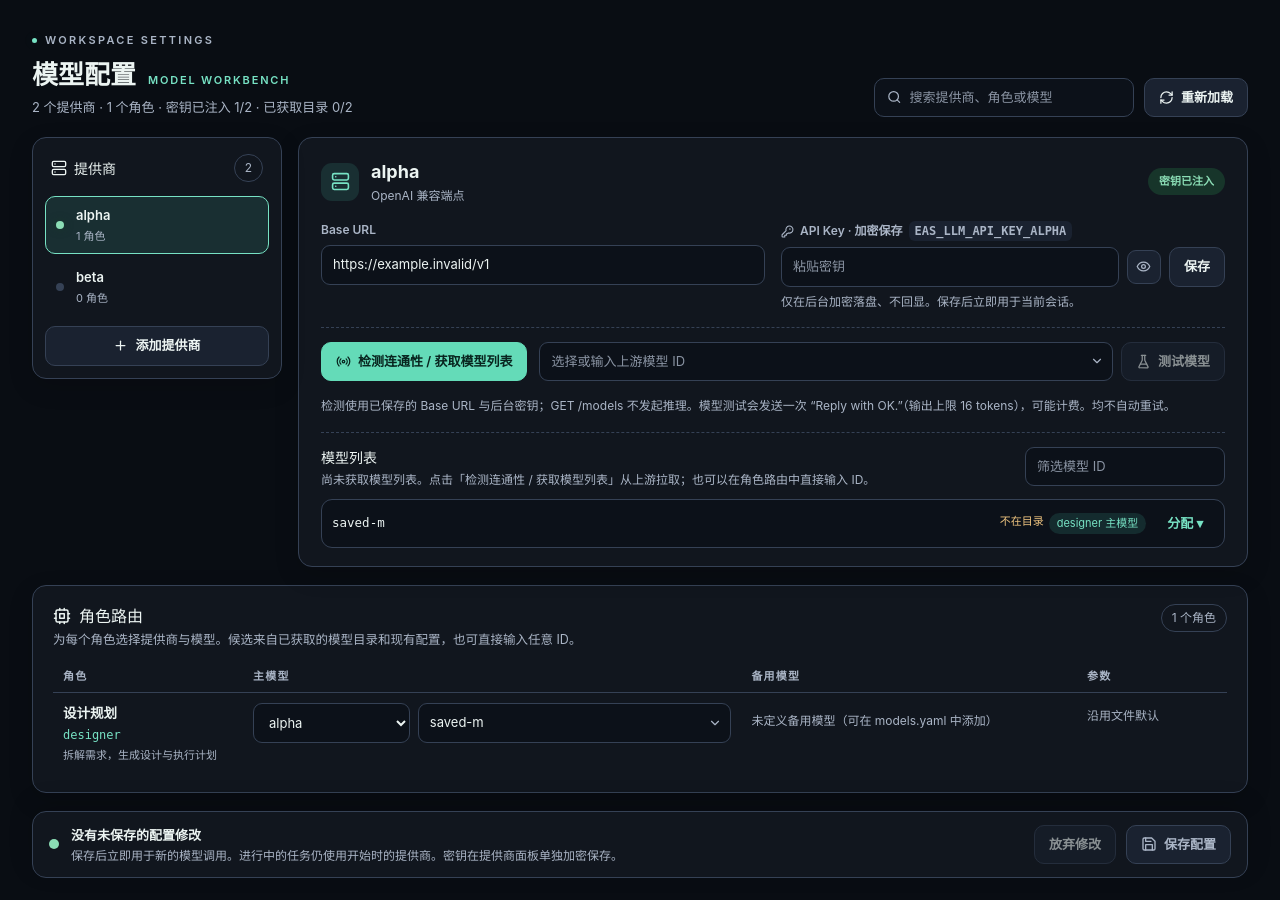
Test: 提供商面板 · 上游检测 › 保存失败或草稿无效时不发出检测
Expected: the field named "alpha Base URL" is shown, [321,245,765,284]
Type "-edited" into the dropdown named "designer 主模型 ID" at (575, 723), box [418,703,731,743]
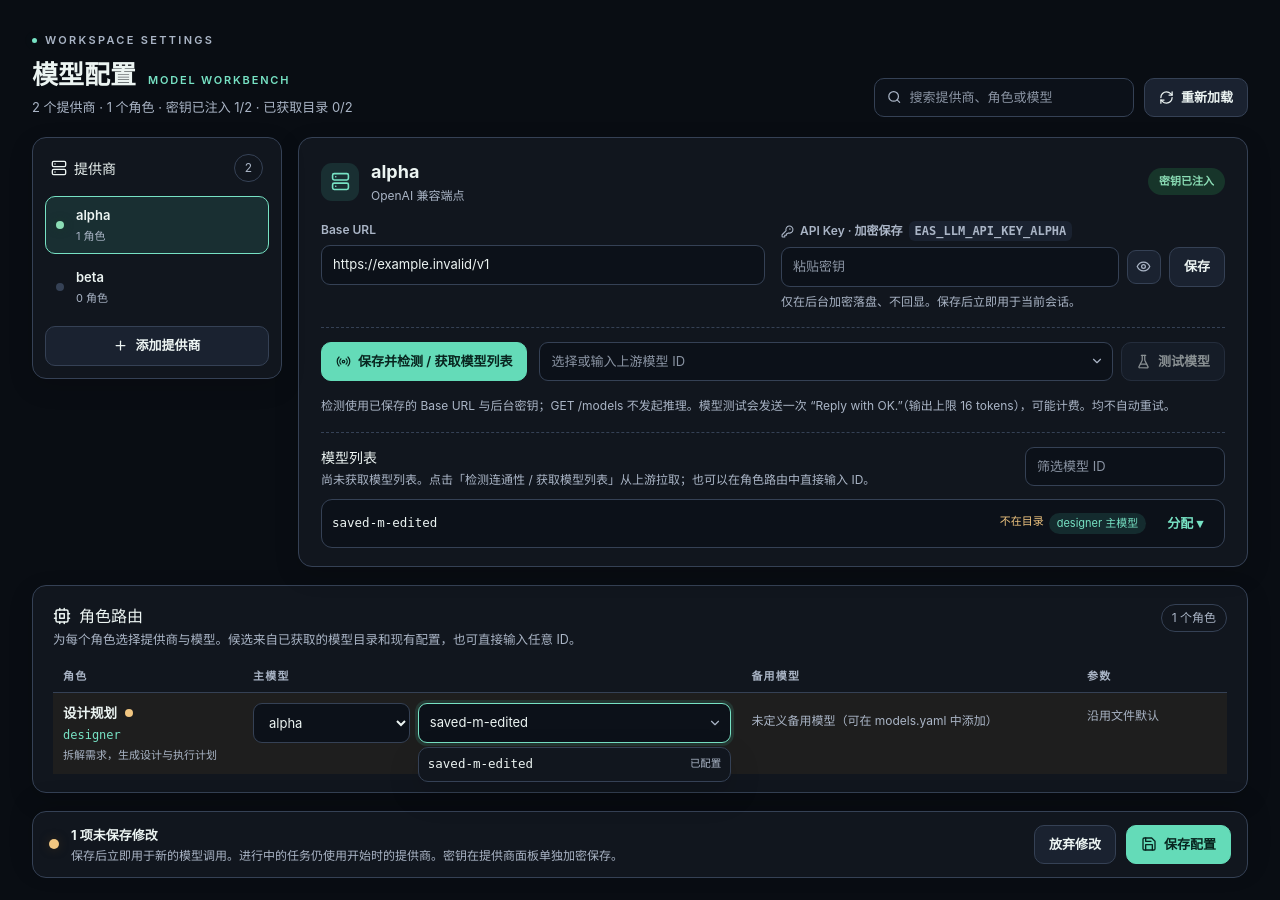
Click the button "保存并检测 / 获取模型列表" at (424, 361), box [321,342,528,381]
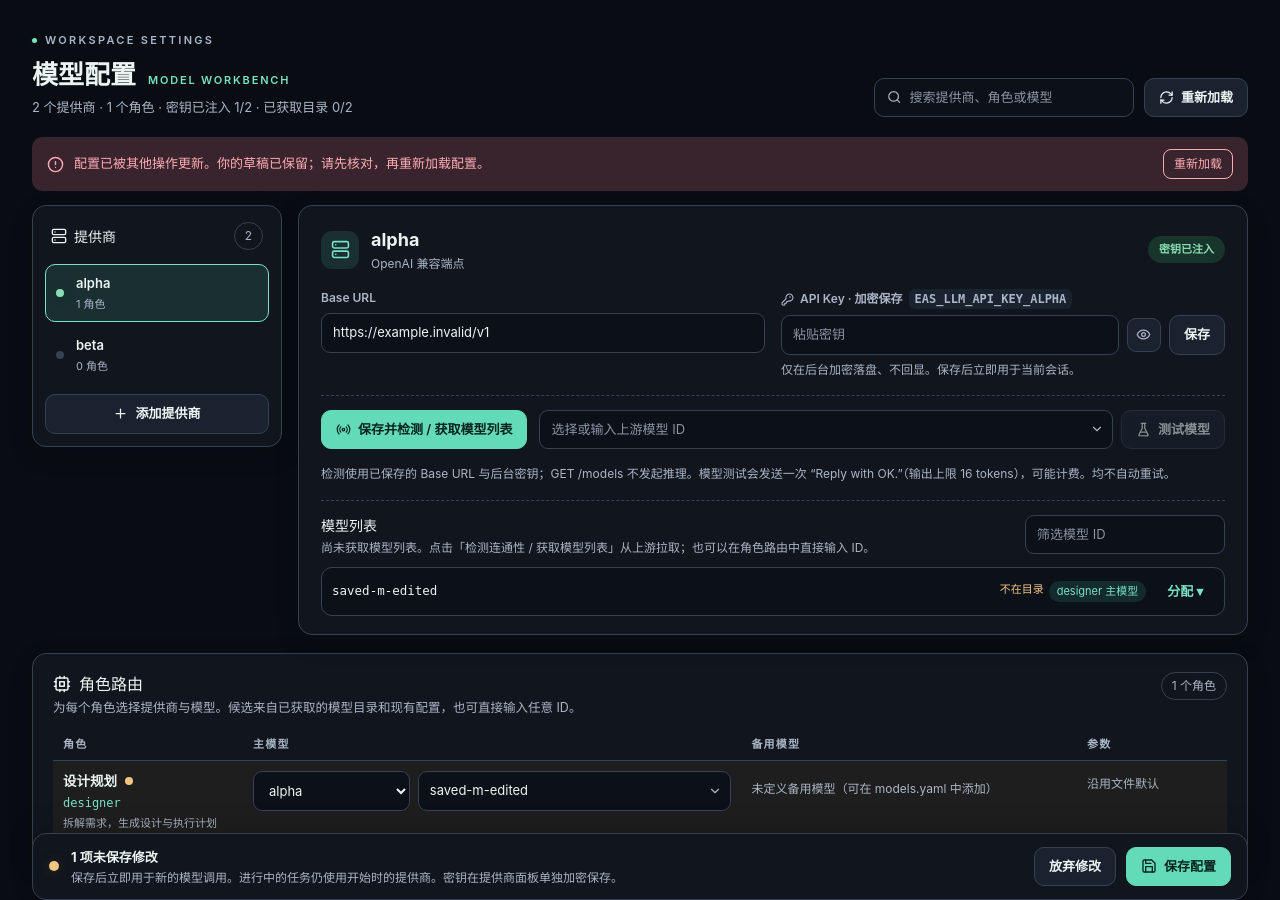
Now the message "配置已被其他操作更新。你的草稿已保留；请先核对，再重新加载配置。 重新加载" is shown, box [32,137,1248,191]
Clear the dropdown named "designer 主模型 ID" at (575, 791), box [418,771,731,811]
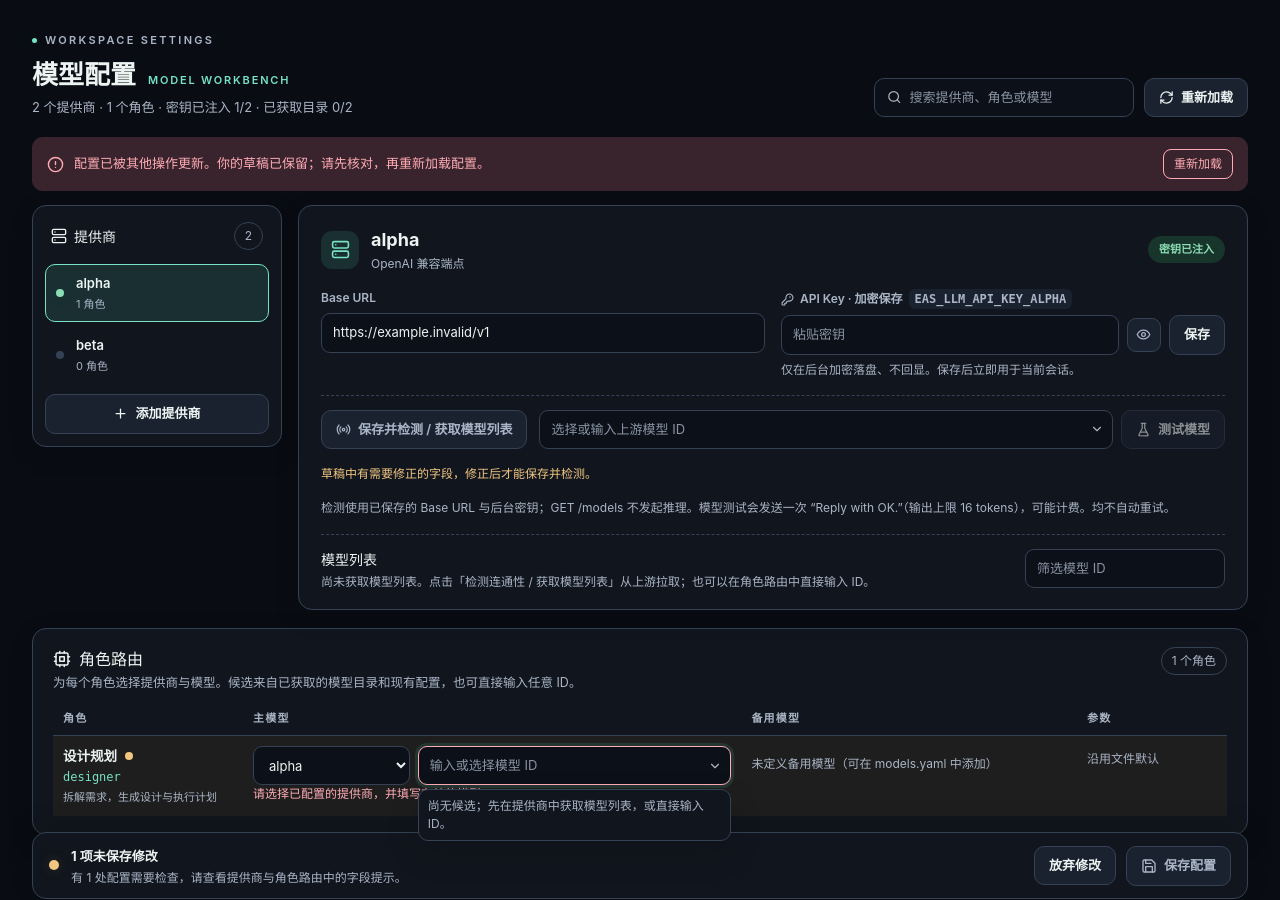
Now the button "保存并检测 / 获取模型列表" is disabled, box [321,410,528,449]
